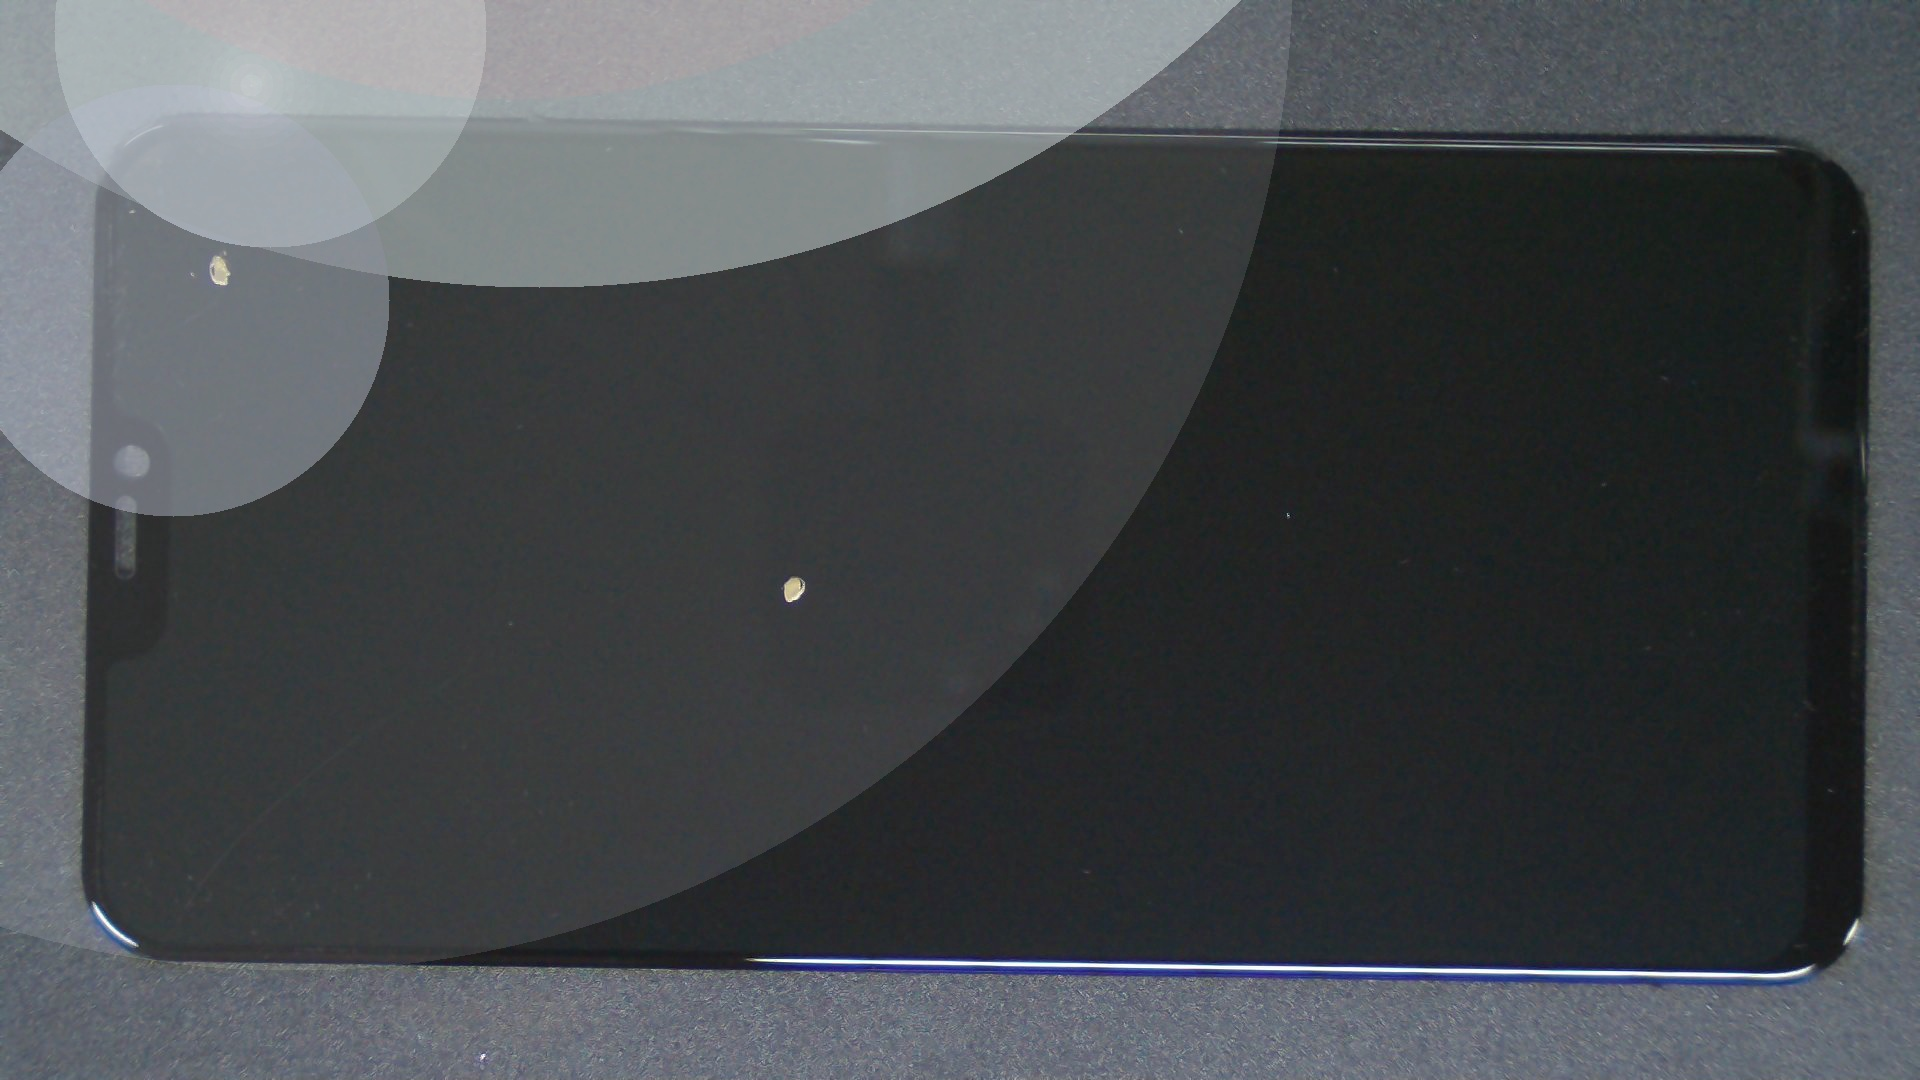oil: (401, 282, 1182, 866), (109, 127, 327, 380)
